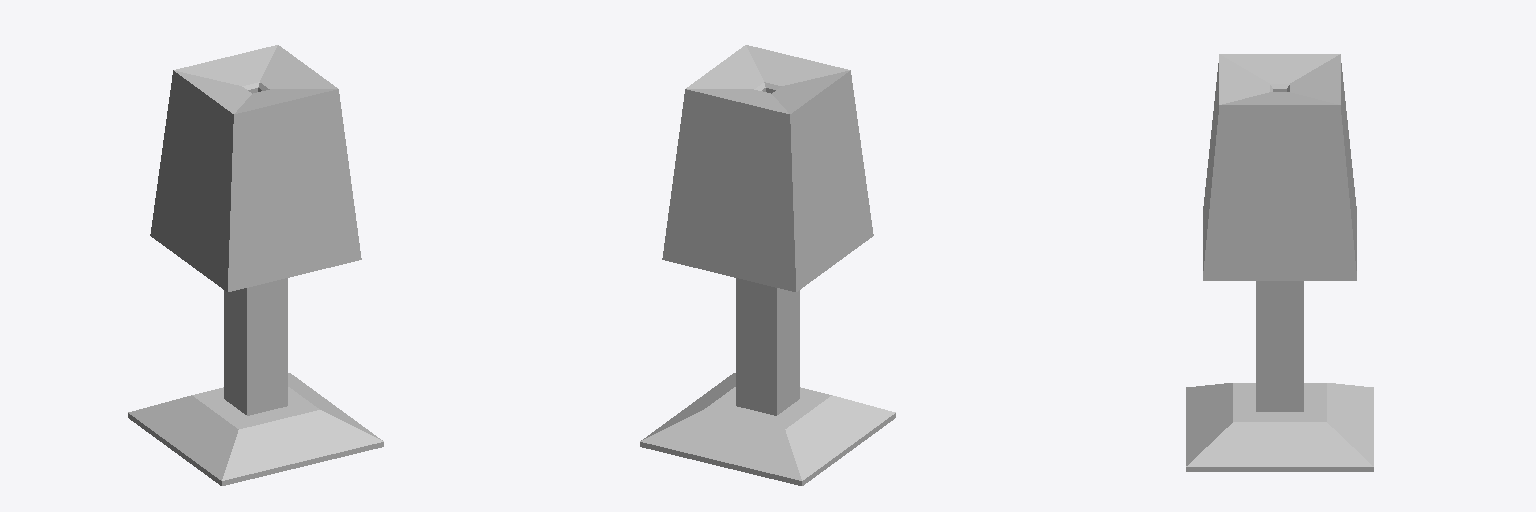
File: Lamp 3.obj
3 views of the same model, side by side, from view 1: azimuth 30°, elevation 25°; view 2: azimuth 150°, elevation 25°; view 3: azimuth 270°, elevation 25° (orthographic).
Visible parts, largest first — view 1: Cube, Cube.002, Cube.001; view 2: Cube, Cube.002, Cube.001; view 3: Cube, Cube.002, Cube.001.
Boxes of the visible parts, <box> form: Cube: <box>150,45,361,291</box>; Cube.002: <box>128,373,383,485</box>; Cube.001: <box>224,278,287,415</box>; Cube: <box>662,45,873,291</box>; Cube.002: <box>640,373,895,485</box>; Cube.001: <box>736,278,799,415</box>; Cube: <box>1203,54,1356,280</box>; Cube.002: <box>1186,383,1373,471</box>; Cube.001: <box>1256,281,1303,411</box>.
Bounding box in the file's own units: 2 × 4.15 × 2.